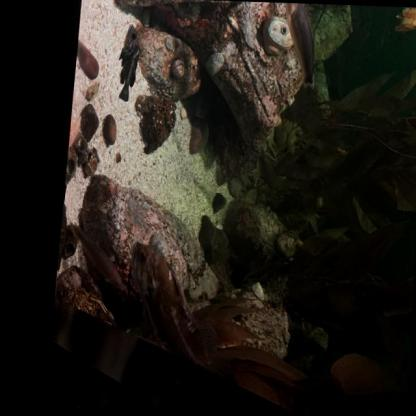fish: (124, 237, 235, 385), (277, 2, 320, 93), (114, 22, 143, 103), (394, 7, 416, 35)
